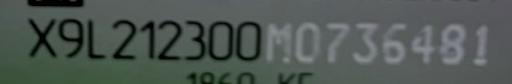letter: (22, 15, 58, 58), (234, 15, 264, 63), (264, 19, 294, 63), (350, 19, 380, 63), (380, 20, 410, 64), (408, 20, 438, 64), (436, 20, 466, 64), (322, 19, 352, 62), (294, 20, 324, 62), (56, 15, 84, 59), (109, 16, 137, 60), (205, 19, 233, 62), (156, 18, 184, 60), (84, 17, 110, 60), (182, 17, 208, 59), (466, 20, 490, 64), (138, 18, 156, 60)
